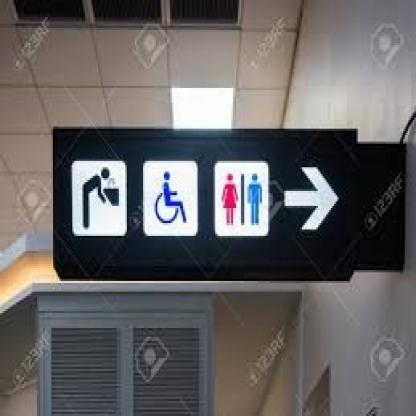toilet: (219, 169, 266, 231)
